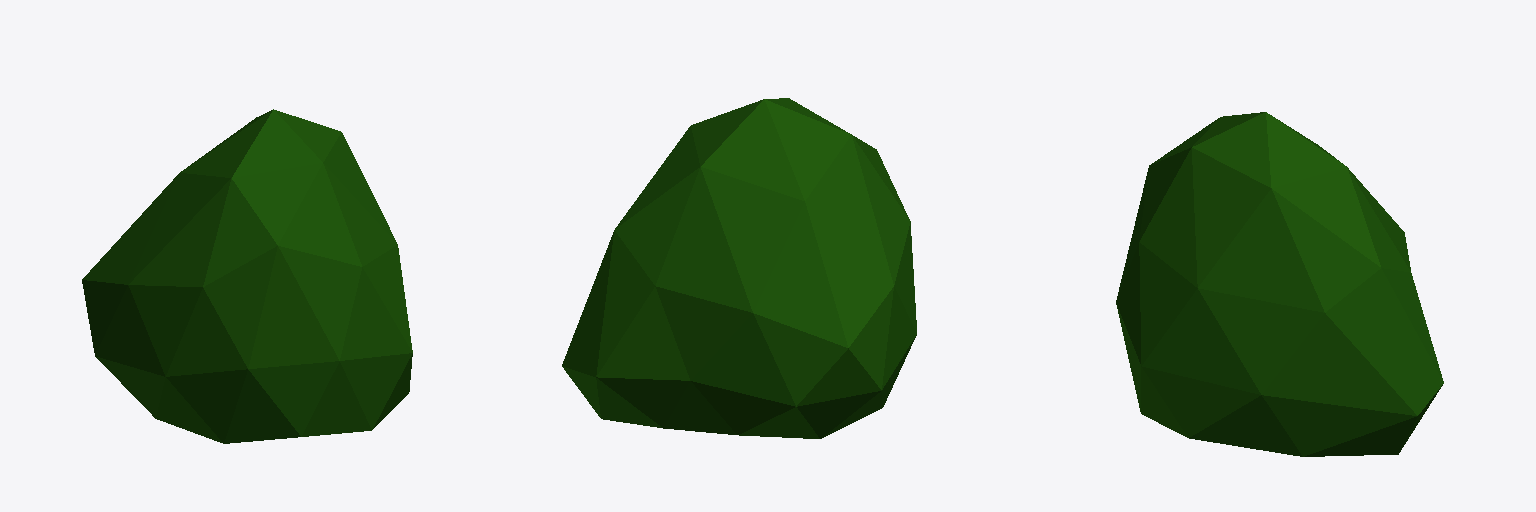
Rendered from shrub.obj.
The picture shows the model from 3 angles: view 1: azimuth 30°, elevation 25°; view 2: azimuth 150°, elevation 25°; view 3: azimuth 270°, elevation 25°; orthographic projection.
Parts seen in each view (by area): view 1: shrub:Shrub; view 2: shrub:Shrub; view 3: shrub:Shrub.
Part boxes in pixels (x1,y1,x2,y2): shrub:Shrub: (82, 109, 412, 443); shrub:Shrub: (562, 98, 916, 438); shrub:Shrub: (1116, 112, 1443, 456).
Size of the model in its own units: 0.6647 by 0.6899 by 0.6874.